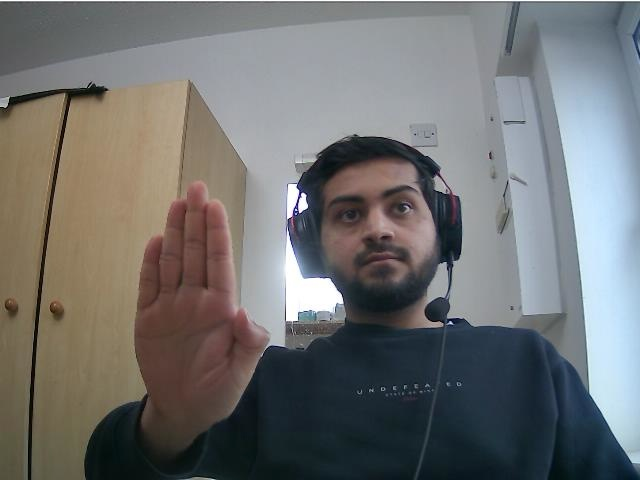up: (132, 179, 274, 416)
